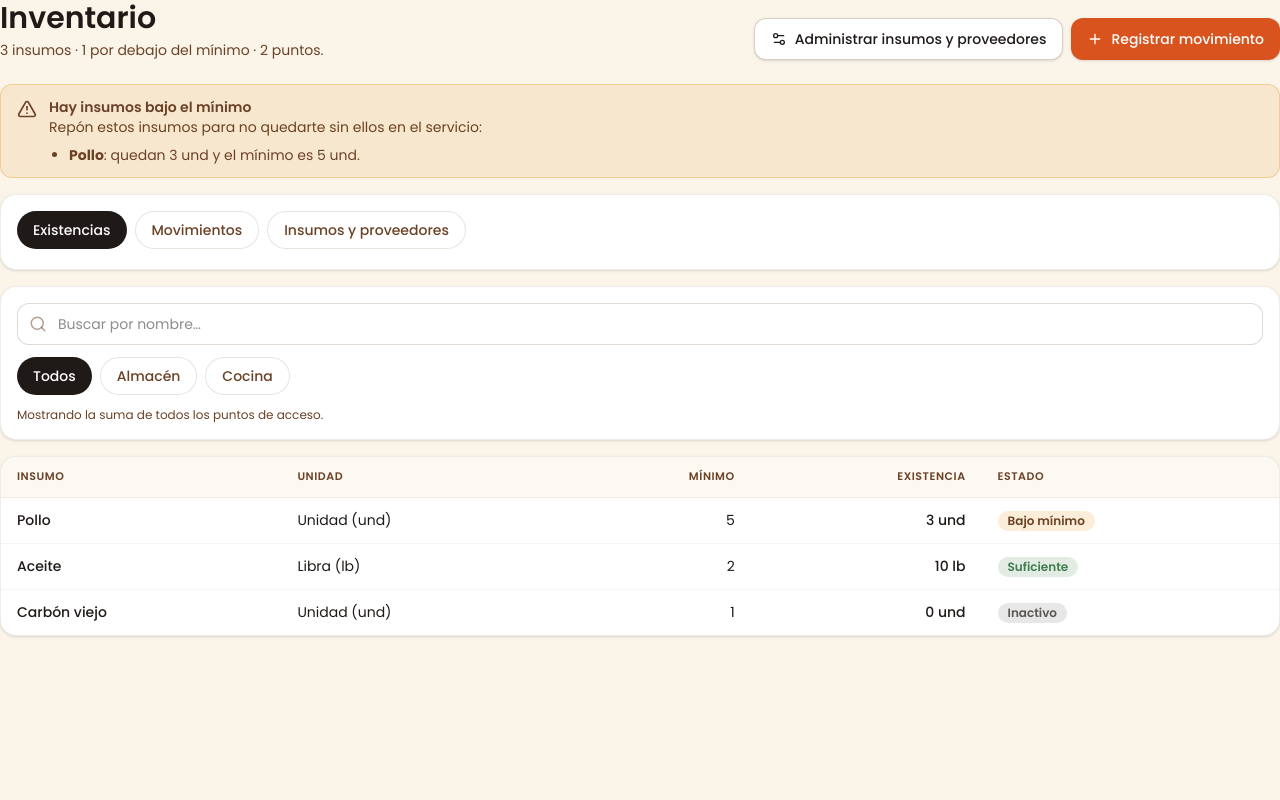
Test: Inventario › registra una entrada y refresca la existencia
The width and height of the screenshot is (1280, 800).
Click the button "Registrar movimiento".
click(1176, 39)  # box [1071,18,1279,60]
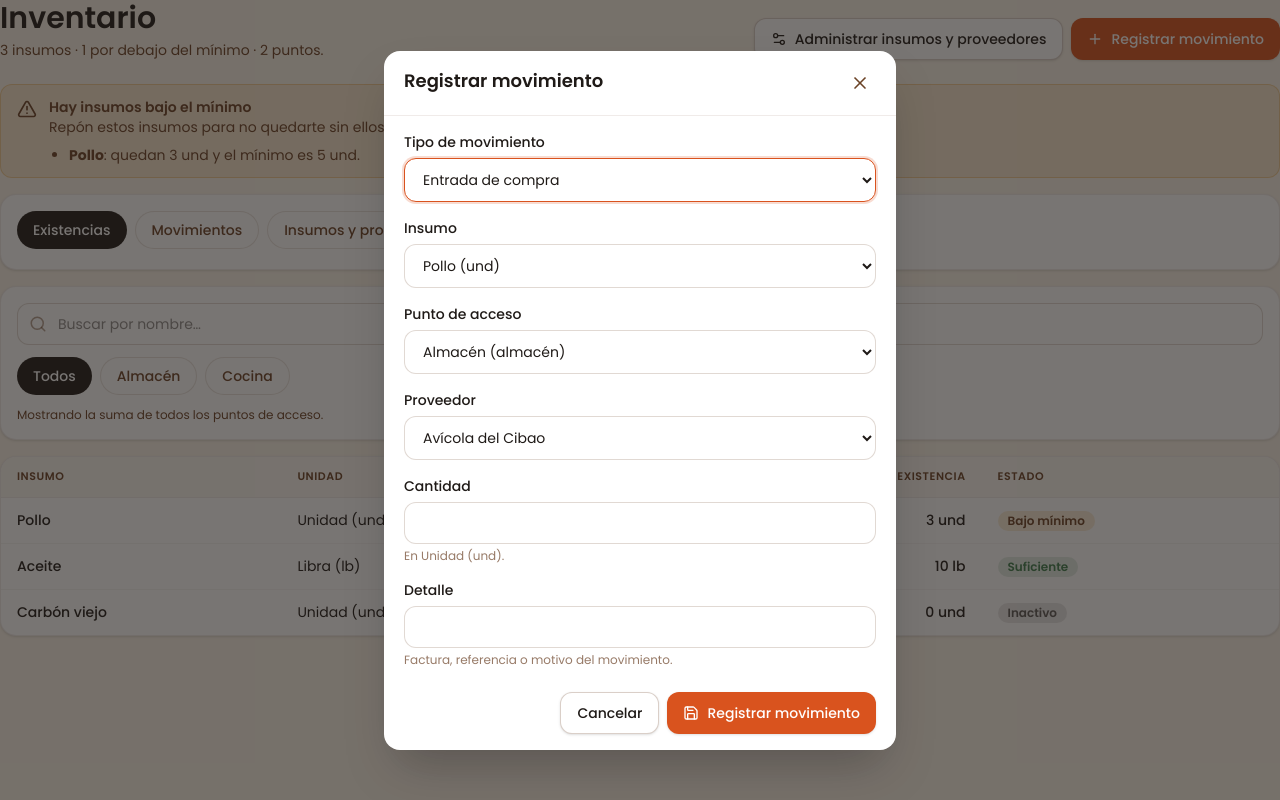
Type "4" into the field labelled "Cantidad".
click(640, 522); type("4")  # box [404,502,876,544]
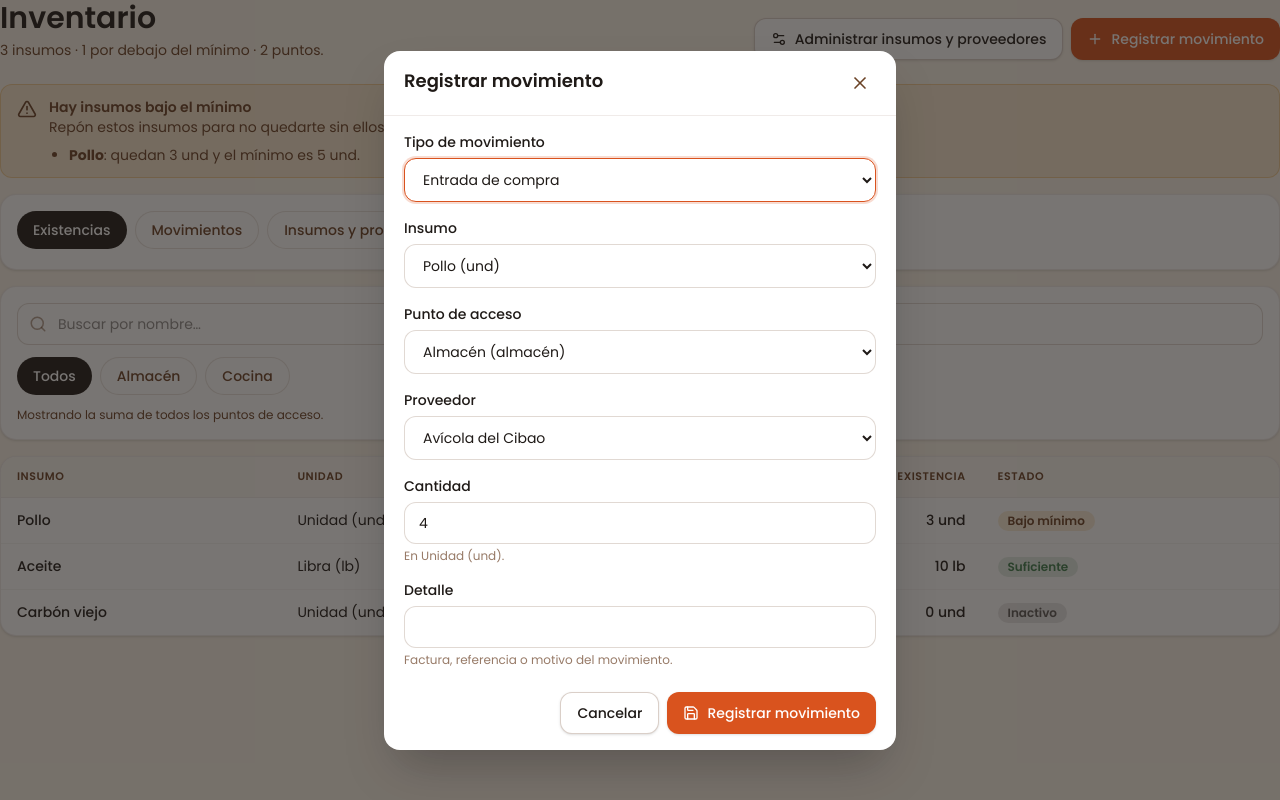
Type "Factura B-2" into the field labelled "Detalle".
click(640, 626); type("Factura B-2")  # box [404,606,876,648]
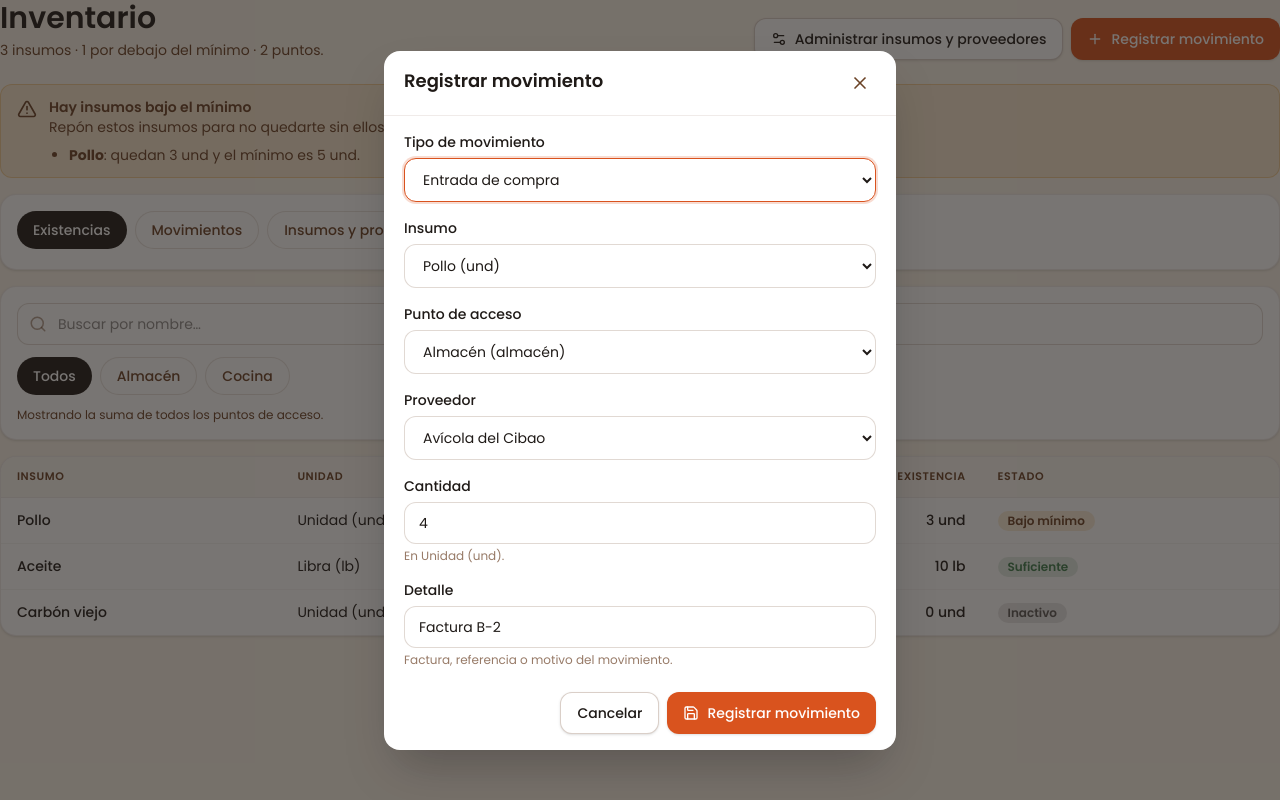
Click the button "Registrar movimiento".
click(772, 712)  # box [667,692,876,734]
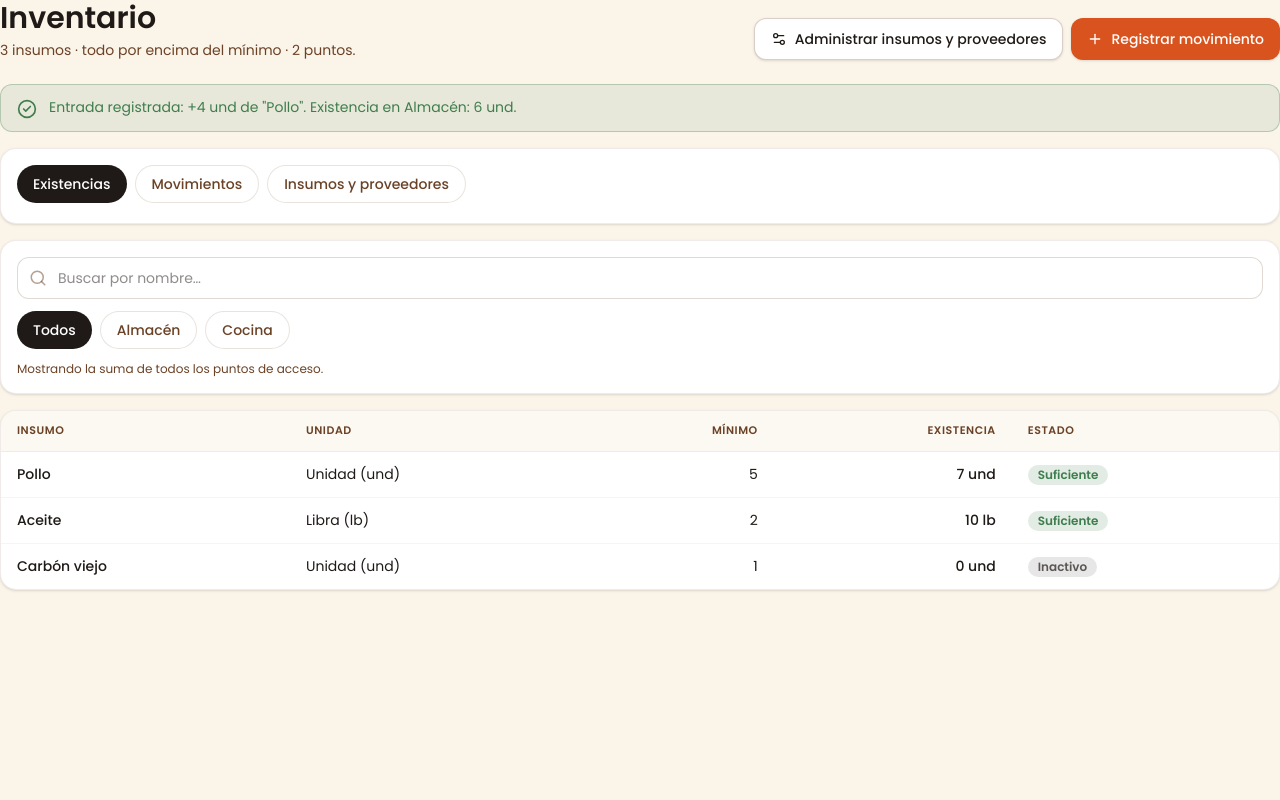
Expected: the text "Entrada registrada: +4 und de \"Pollo\". Existencia en Almacén: 6 und." is shown, [49,97,516,117]
Expected: the text "Pollo" shows "7 und", [1,452,1279,497]
